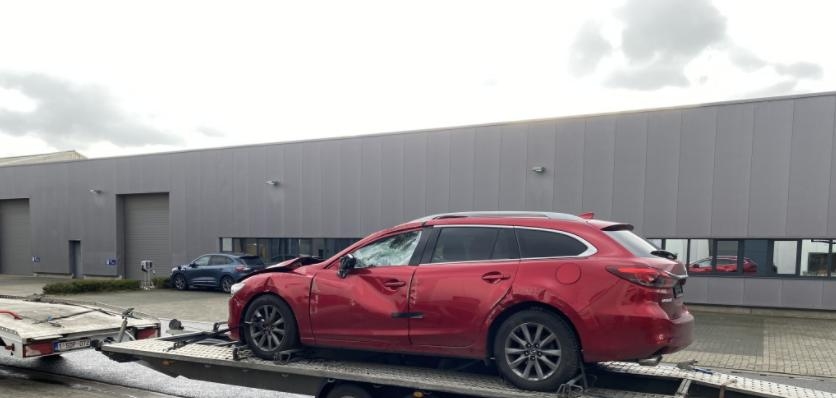Back-bumper: (570, 278, 694, 363)
Back-door: (409, 224, 521, 347)
Back-wheel: (494, 308, 581, 391)
Back-window: (431, 229, 497, 262), (517, 230, 585, 259), (491, 229, 510, 258)
Back-windshield: (601, 229, 672, 258)
Fender: (235, 267, 321, 347)
Front-bumper: (228, 294, 245, 341)
Front-door: (310, 226, 431, 344)
Front-wheel: (244, 296, 295, 361)
Front-window: (351, 230, 425, 268)
Headlight: (230, 281, 245, 295)
Hood: (238, 257, 324, 280)
License-plate: (672, 284, 683, 298)
Mirror: (337, 254, 365, 279)
Quarter-panel: (469, 250, 652, 349)
Rocker-panel: (315, 339, 484, 362)
Roof: (402, 211, 580, 226)
Tail-light: (606, 266, 678, 289)
Trunk: (587, 219, 688, 319)
